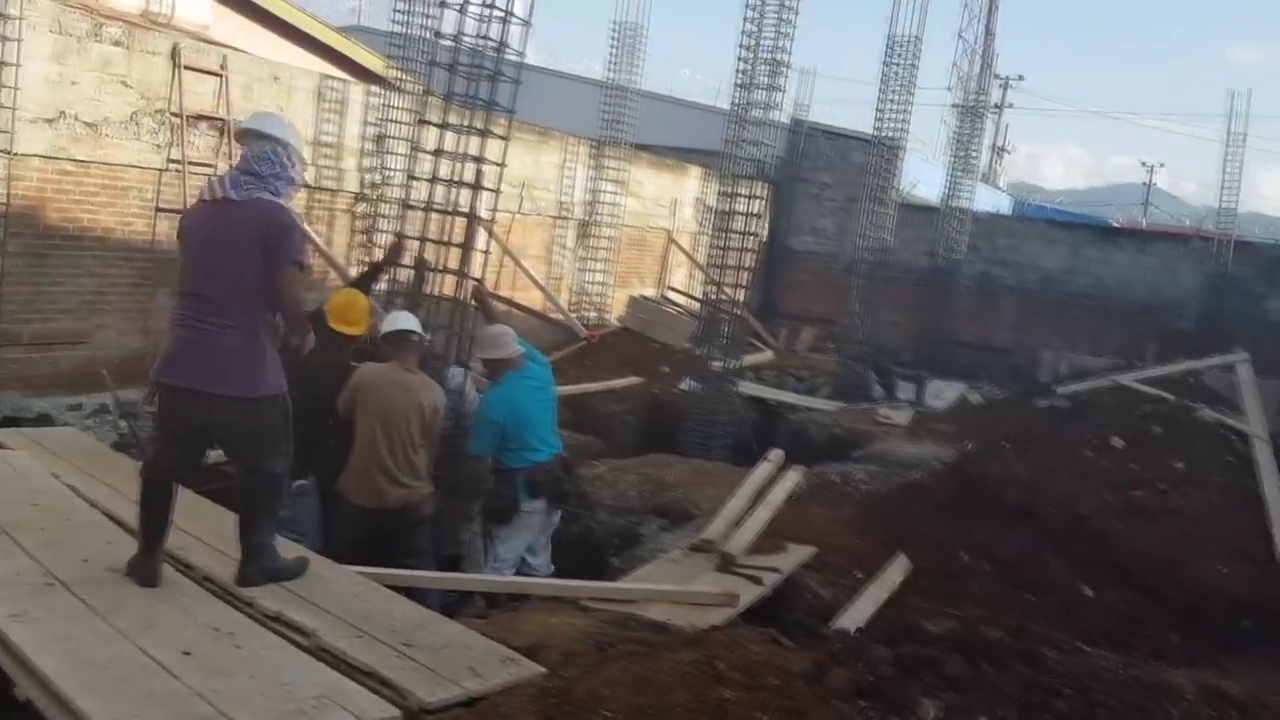helmet: (226, 104, 316, 166), (323, 290, 369, 337), (375, 309, 426, 344)
helmet-off: (466, 324, 530, 386)
helmet-on: (219, 101, 316, 205), (374, 312, 434, 374), (319, 290, 369, 346)
person: (125, 103, 322, 591), (334, 302, 445, 583), (459, 307, 563, 580), (291, 277, 374, 416)
